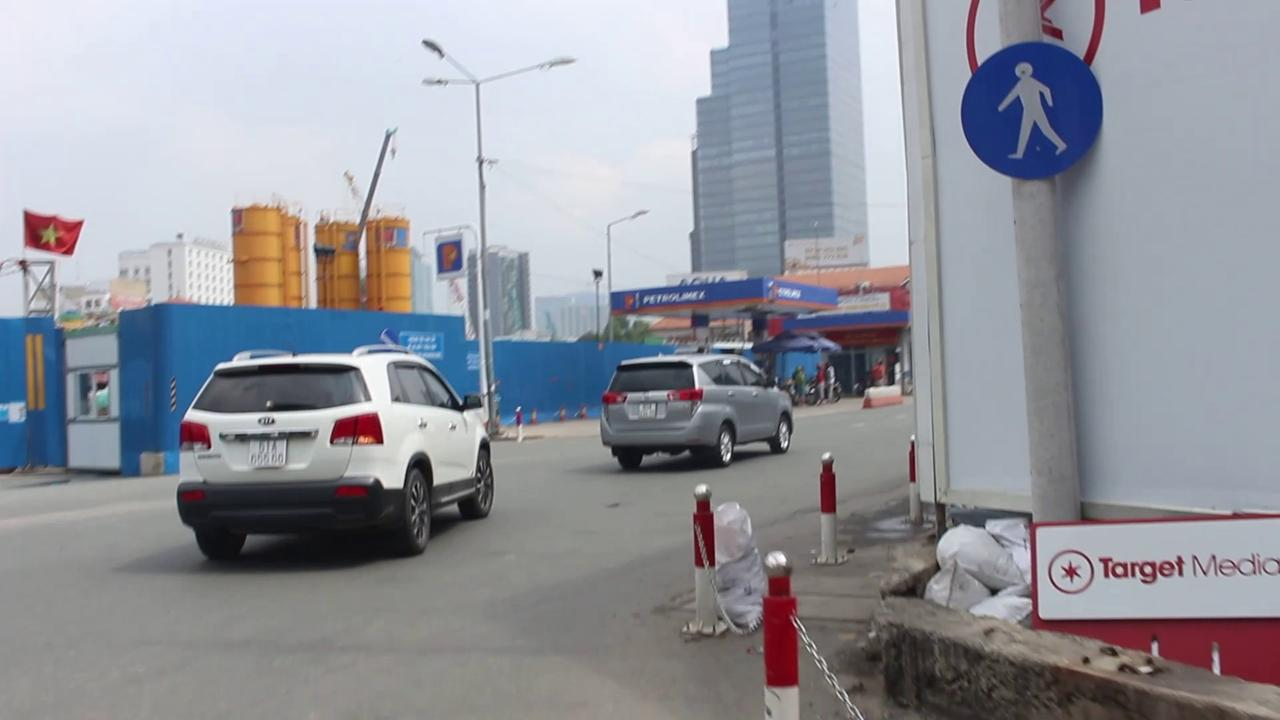P.123a: (953, 40, 1101, 179)
